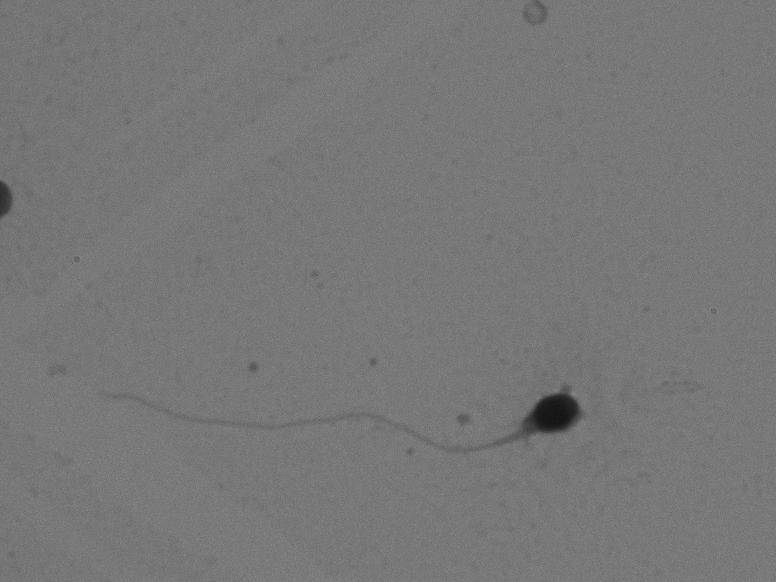Normal: (56, 312, 609, 502)
